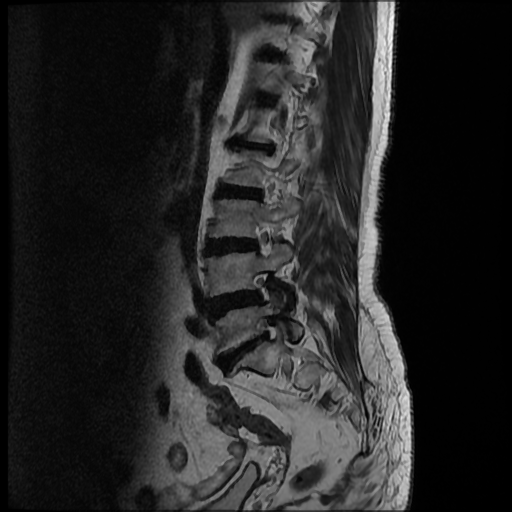RFS0: (245, 263, 283, 310)
RFS1: (249, 307, 285, 352)
